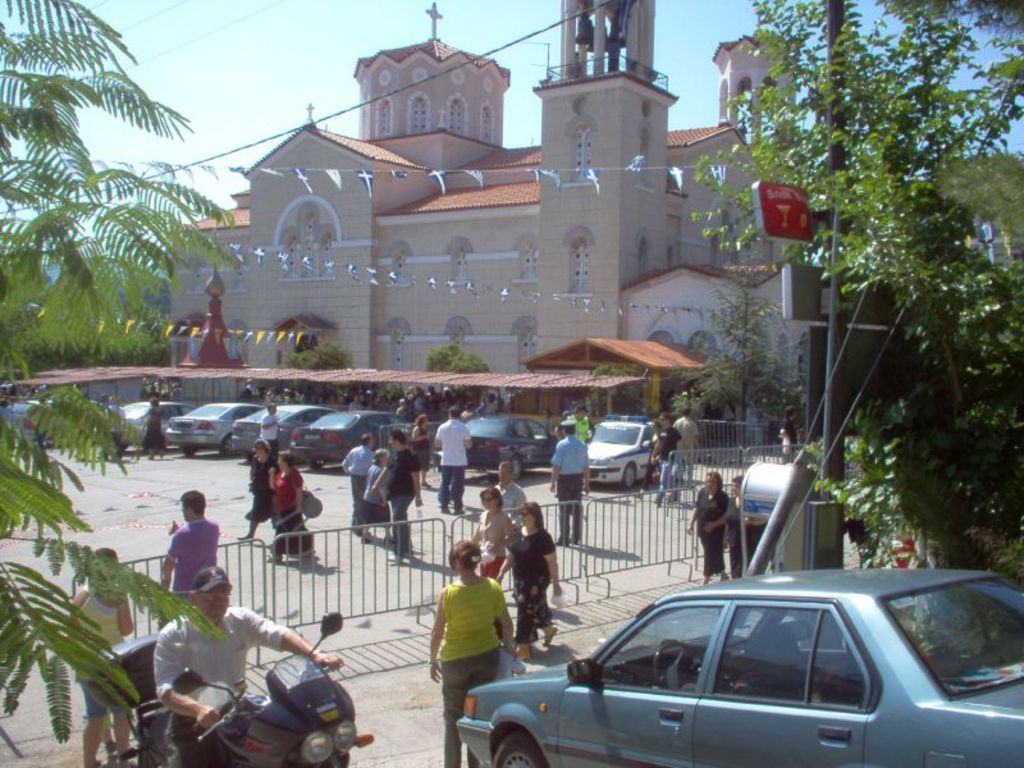Car: (450, 581, 1018, 768), (459, 410, 559, 481), (284, 409, 400, 467), (162, 395, 262, 451), (582, 412, 657, 485), (234, 403, 330, 460), (113, 403, 186, 450), (6, 396, 49, 445)
